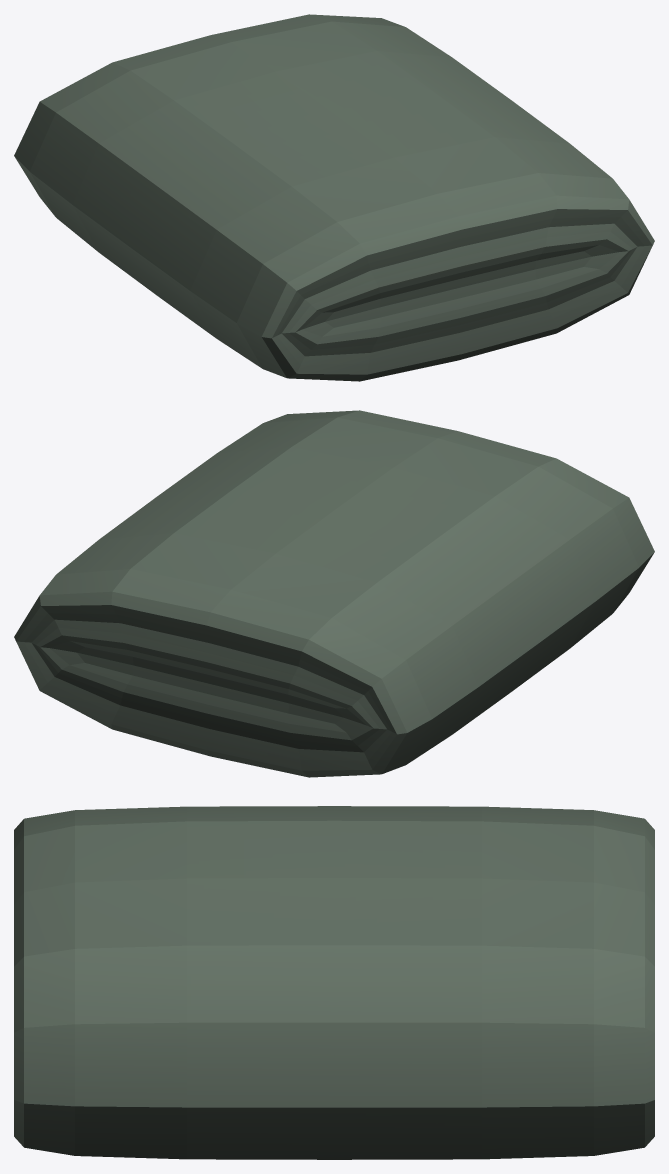
The model's file is Clothes1_C5.fbx.
The picture shows the model from 3 angles, top to bottom: view 1: azimuth 30°, elevation 25°; view 2: azimuth 150°, elevation 25°; view 3: azimuth 270°, elevation 25°; orthographic projection. The views are drawn at different scales.
Parts seen in each view (by area): view 1: Clothes1_C5; view 2: Clothes1_C5; view 3: Clothes1_C5.
Boxes of the visible parts, x1,y1,x2,y2 form: Clothes1_C5: [14, 14, 654, 381]; Clothes1_C5: [14, 410, 654, 777]; Clothes1_C5: [14, 806, 654, 1159].
Size of the model in its own units: 21.86 by 8.52 by 23.8.
